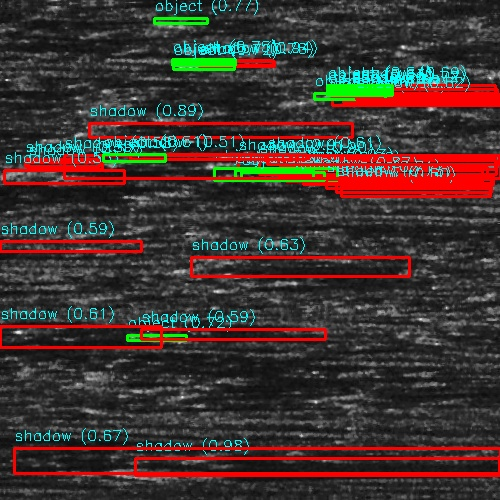rock: (0, 154, 188, 179), (212, 168, 337, 183), (125, 464, 218, 477), (183, 252, 224, 275), (304, 91, 397, 100), (217, 158, 310, 167), (129, 329, 192, 340), (146, 185, 219, 194), (96, 127, 149, 132), (183, 61, 224, 66)
shadow: (0, 447, 490, 474), (53, 154, 500, 179), (172, 464, 500, 477), (275, 168, 500, 183), (204, 252, 342, 275), (264, 158, 476, 167), (183, 185, 388, 194), (0, 240, 136, 253), (161, 329, 309, 340), (0, 179, 137, 190), (351, 91, 500, 100), (123, 127, 325, 132), (0, 80, 83, 91), (0, 119, 25, 136), (204, 61, 274, 66)
